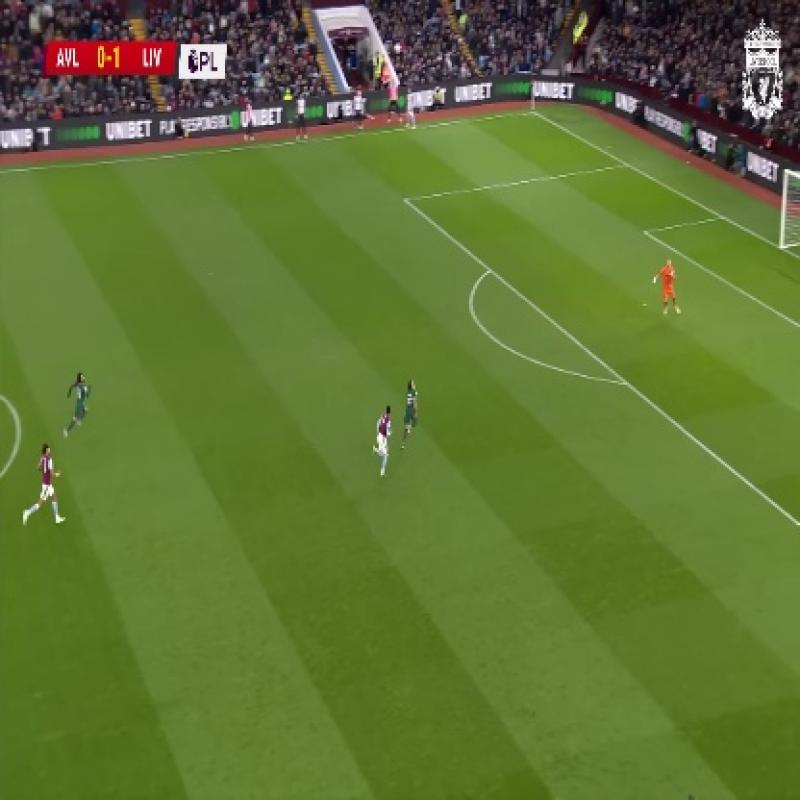1: (519, 104, 540, 119)
10: (478, 258, 496, 279)
11: (616, 368, 634, 392)
2: (617, 154, 633, 173)
3: (712, 206, 730, 227)
7: (634, 222, 652, 241)
9: (396, 186, 414, 210)
c: (7, 408, 32, 442)
